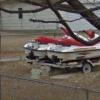Boat: (18, 28, 98, 77)
